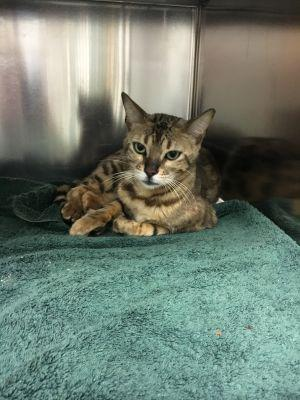bengal: (109, 86, 217, 205)
